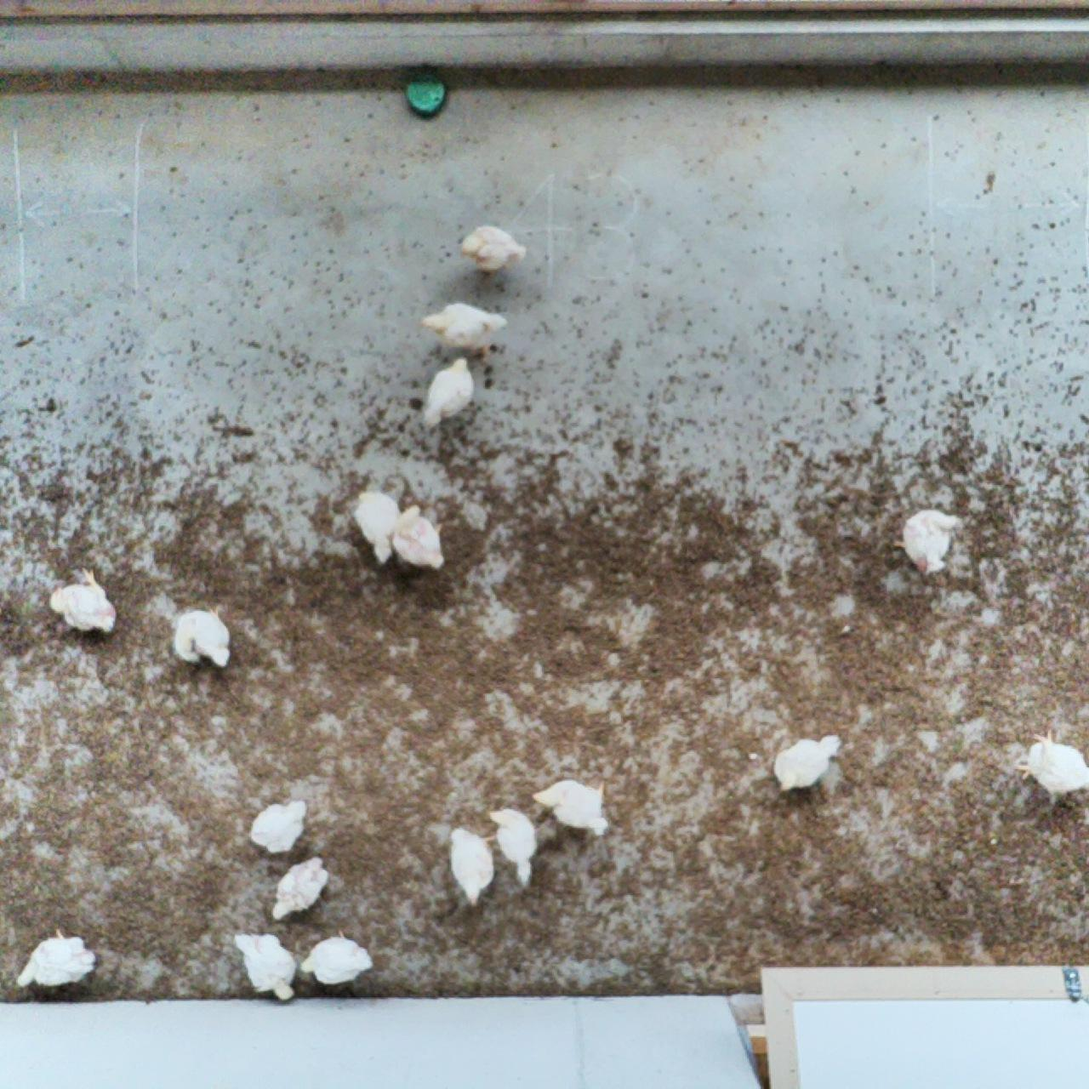chicken: (416, 296, 509, 365), (1012, 725, 1089, 807), (10, 924, 99, 992), (484, 800, 546, 889), (228, 928, 299, 1004), (530, 775, 614, 839), (890, 504, 961, 579), (769, 731, 845, 795), (50, 569, 121, 637), (297, 927, 375, 987), (420, 354, 480, 431), (170, 604, 235, 674), (454, 222, 530, 280), (351, 488, 404, 567), (388, 502, 447, 572), (244, 797, 313, 856), (269, 856, 329, 922)
